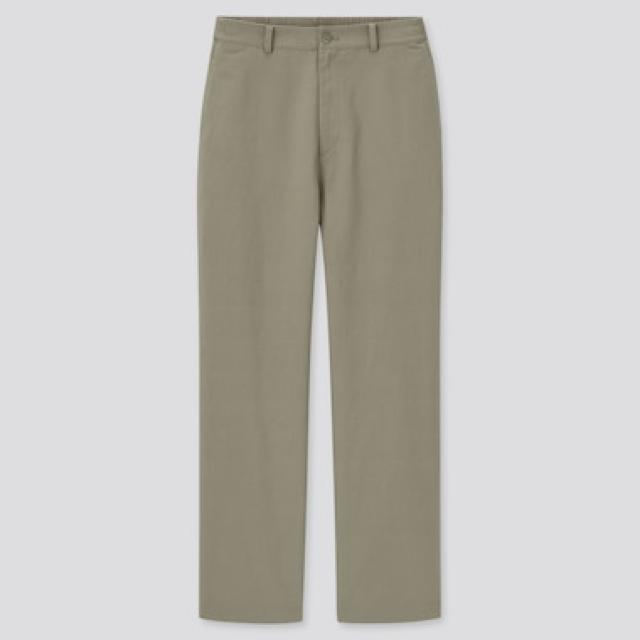long-pants: (197, 17, 445, 630)
